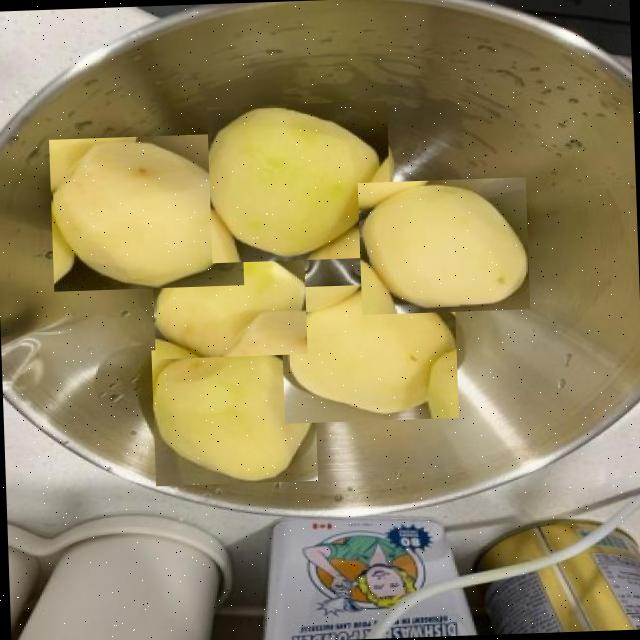Potato: (48, 132, 244, 292), (206, 100, 392, 262), (280, 282, 458, 424), (357, 176, 530, 314), (151, 344, 318, 486), (151, 234, 307, 358)
